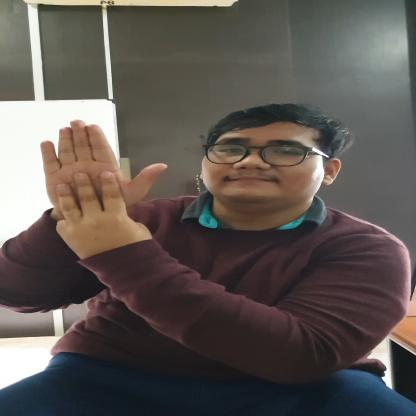M: (38, 118, 170, 241)
